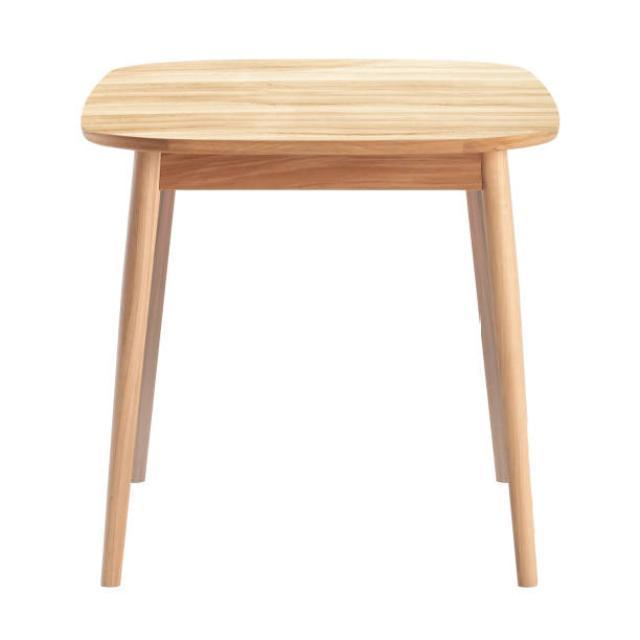table: (80, 56, 560, 589)
